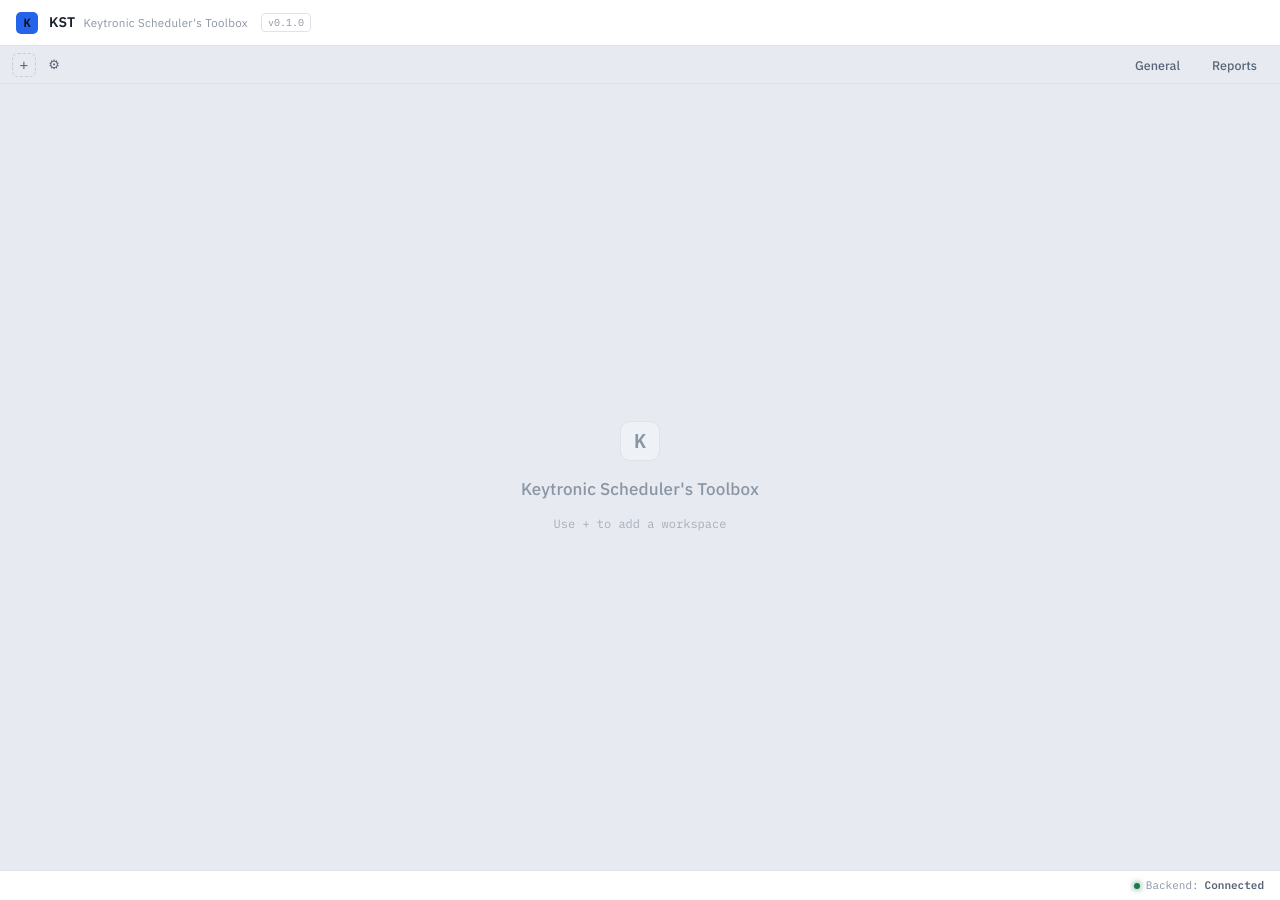
AddWorkspaceDialog › Escape closes the Add Workspace modal with focus on an unrelated form control (not just the initially-focused field)
Click the button named "add workspace". click: [24, 64]
box: x1=12 y1=52 x2=36 y2=76
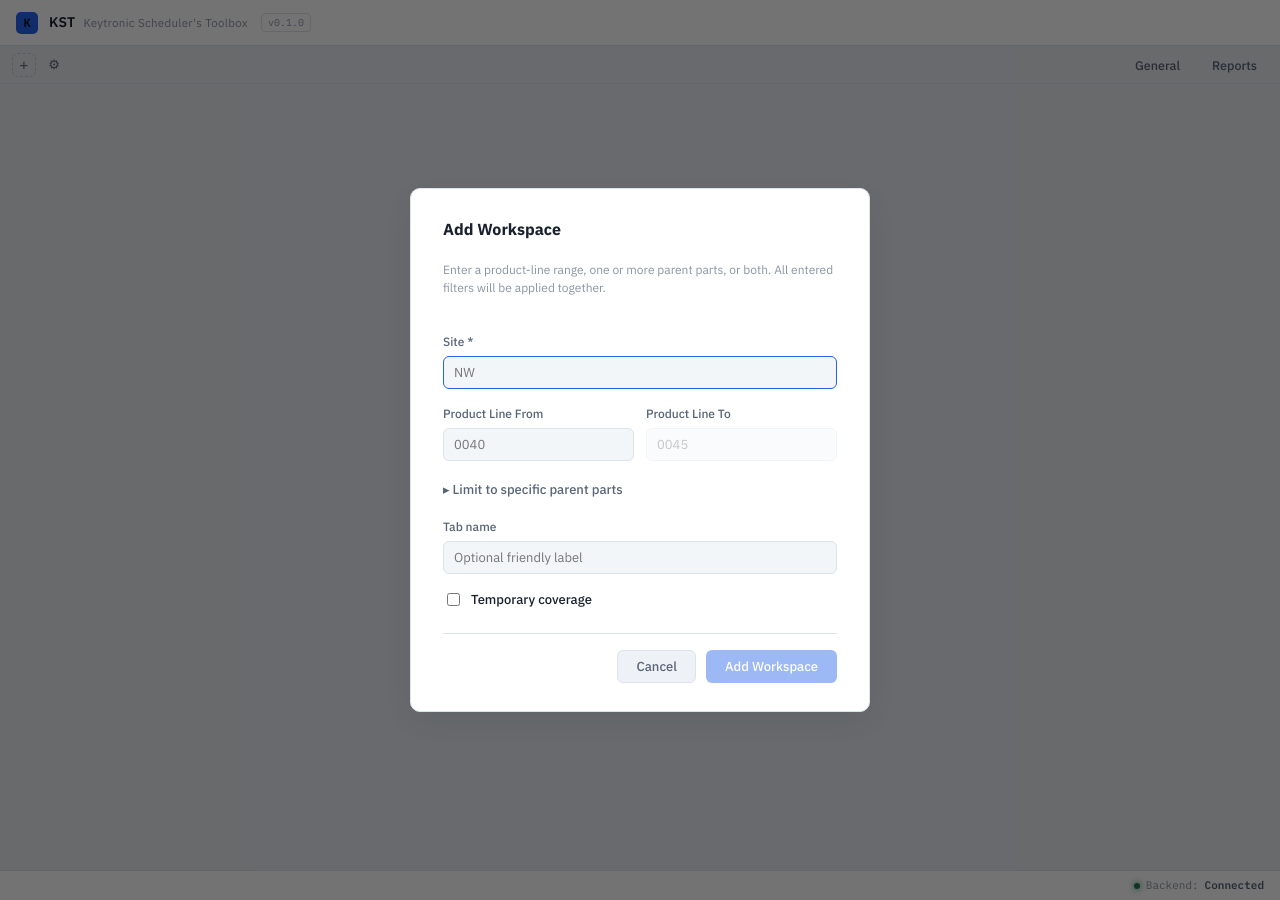
Click the field labelled "Product Line From". click: [538, 444]
box: x1=443 y1=428 x2=634 y2=461
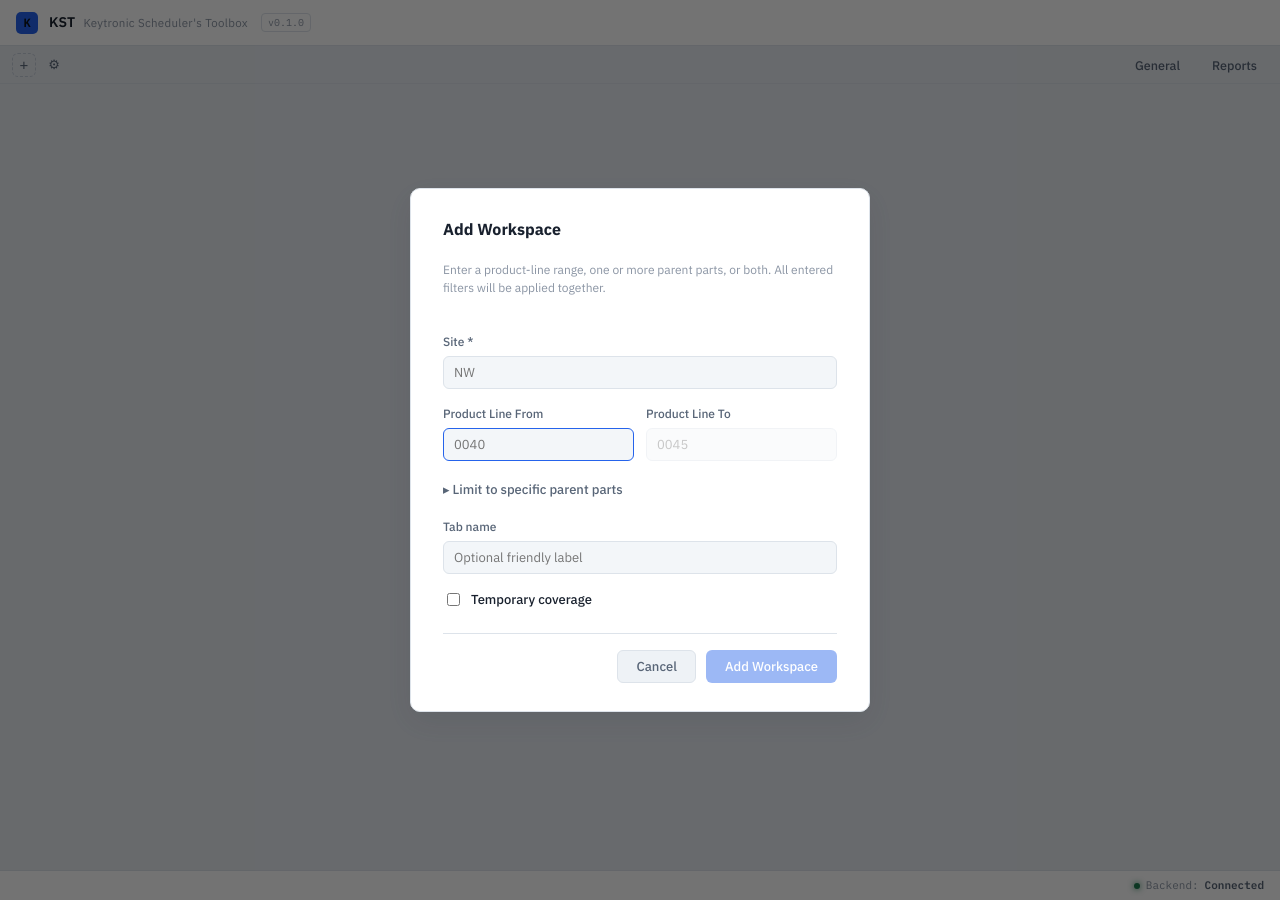
Press Escape
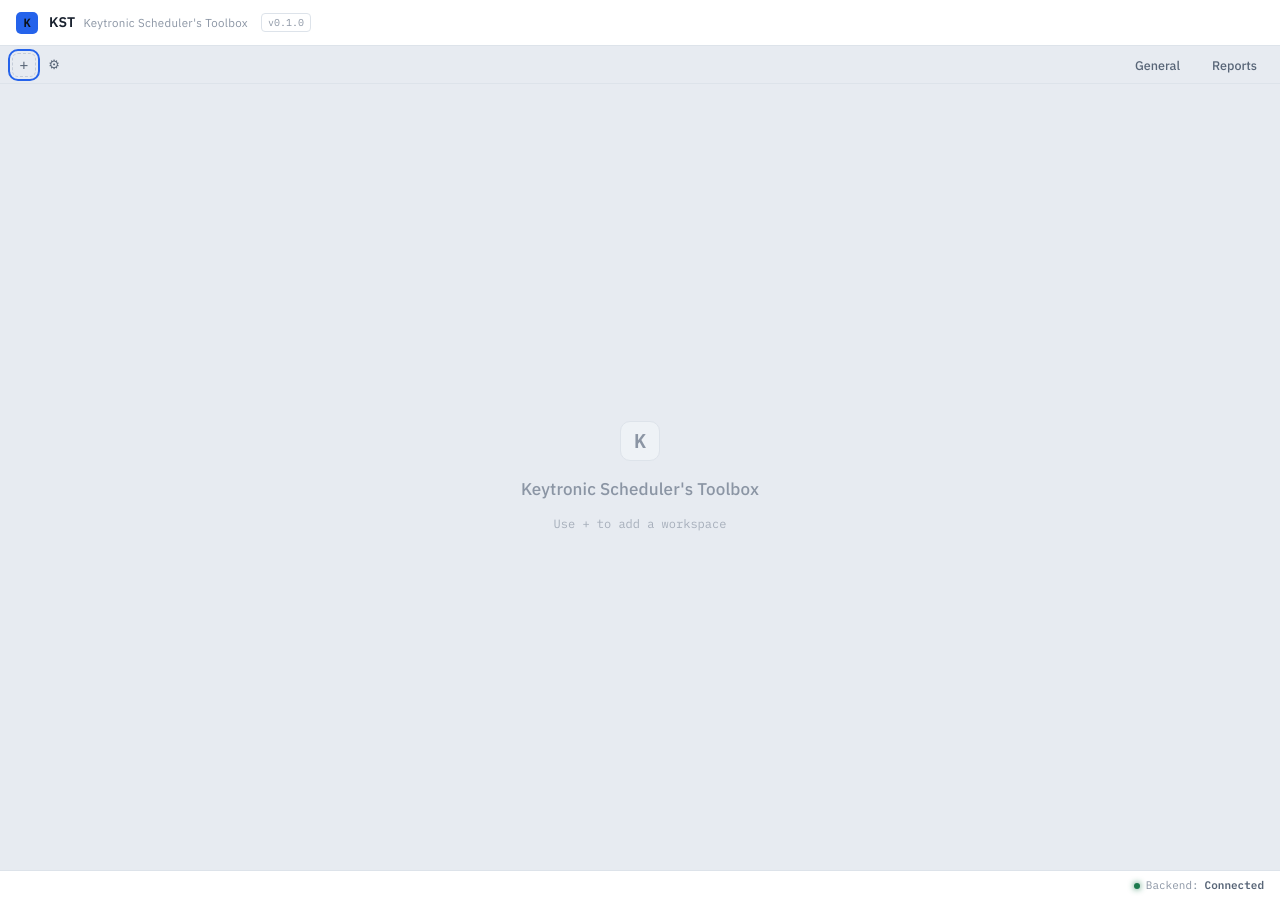
Check: the dialog is gone
